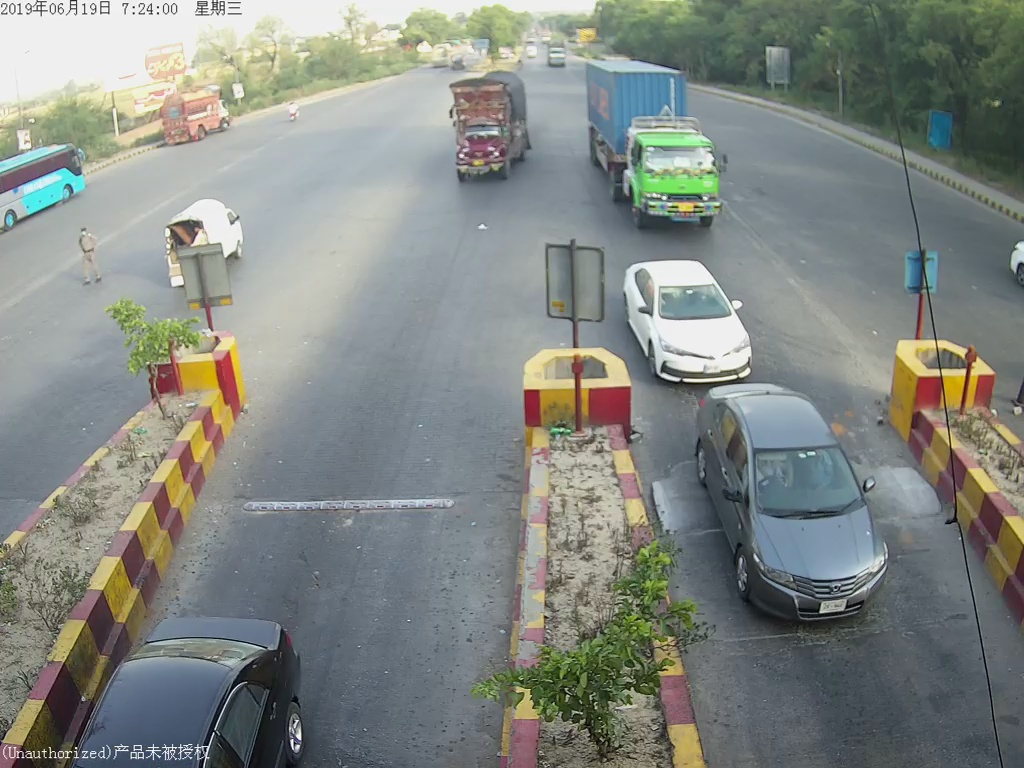Cat-1: (693, 382, 890, 621), (629, 253, 757, 379)
Cat-4: (433, 71, 546, 190)
Cat-5: (581, 55, 734, 233)
